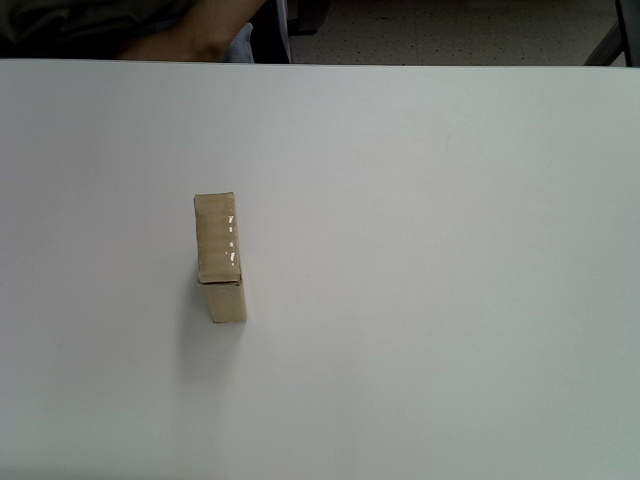normal: (193, 191, 249, 323)
